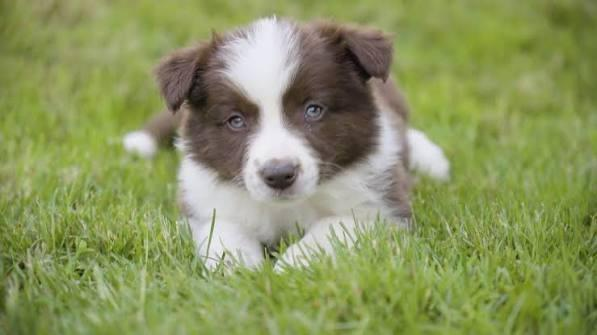puppy-dog: (122, 17, 453, 274)
